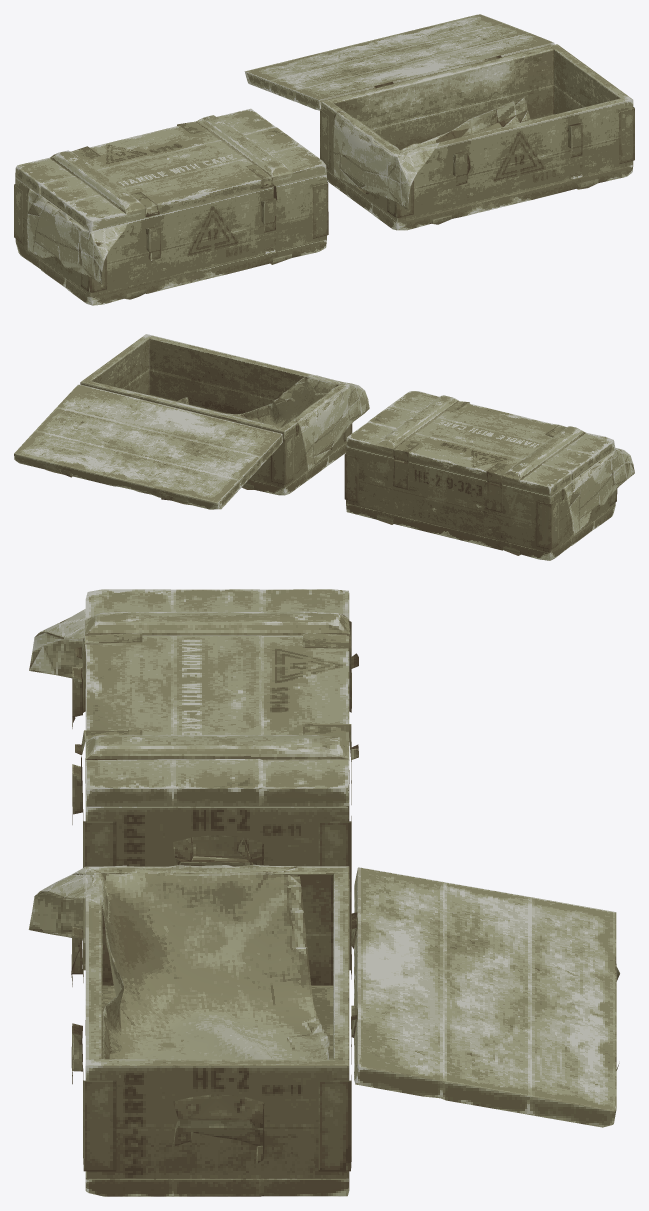
The model's file is old_military_crate.glb.
The picture shows the model from 3 angles, top to bottom: view 1: azimuth 30°, elevation 25°; view 2: azimuth 150°, elevation 25°; view 3: azimuth 270°, elevation 25°; orthographic projection. The views are drawn at different scales.
Visible parts, largest first — view 1: mesh; view 2: mesh; view 3: mesh.
Boxes of the visible parts, x1,y1,x2,y2 form: mesh: (14,14,634,305); mesh: (14,334,634,560); mesh: (28,589,619,1196).
Bounding box in the file's own units: 144 × 24 × 76.8.
1 material, 1 textured.
